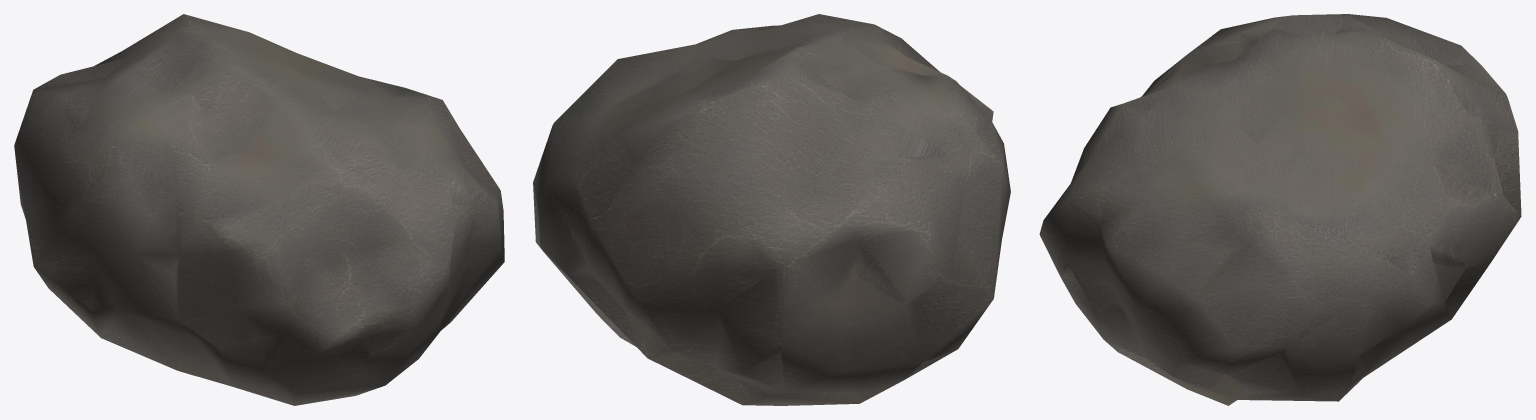
The model's file is SM_Asteroid_05.fbx.
3 views of the same model, side by side, from view 1: azimuth 30°, elevation 25°; view 2: azimuth 150°, elevation 25°; view 3: azimuth 270°, elevation 25° (orthographic). The views are drawn at different scales.
Visible parts, largest first — view 1: SM_Asteroid_05; view 2: SM_Asteroid_05; view 3: SM_Asteroid_05.
Part boxes in pixels (x1,y1,x2,y2): SM_Asteroid_05: (14, 14, 504, 405); SM_Asteroid_05: (533, 14, 1010, 405); SM_Asteroid_05: (1039, 14, 1521, 405).
Bounding box in the file's own units: 95.37 × 98.56 × 66.77.
Materials: 1 (1 with a texture image).
